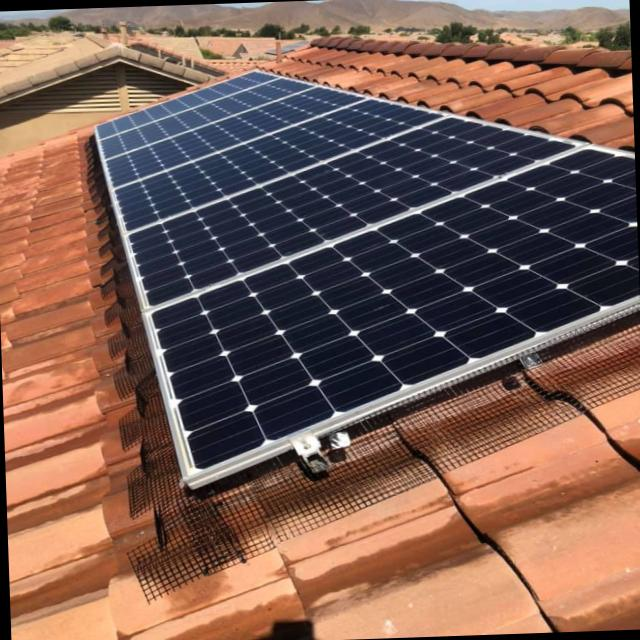no faulty: (89, 67, 639, 462)
